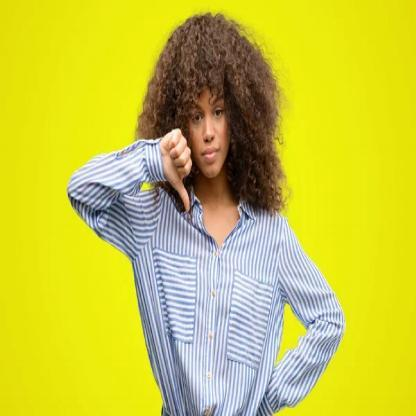thumb_down: (162, 126, 193, 216)
